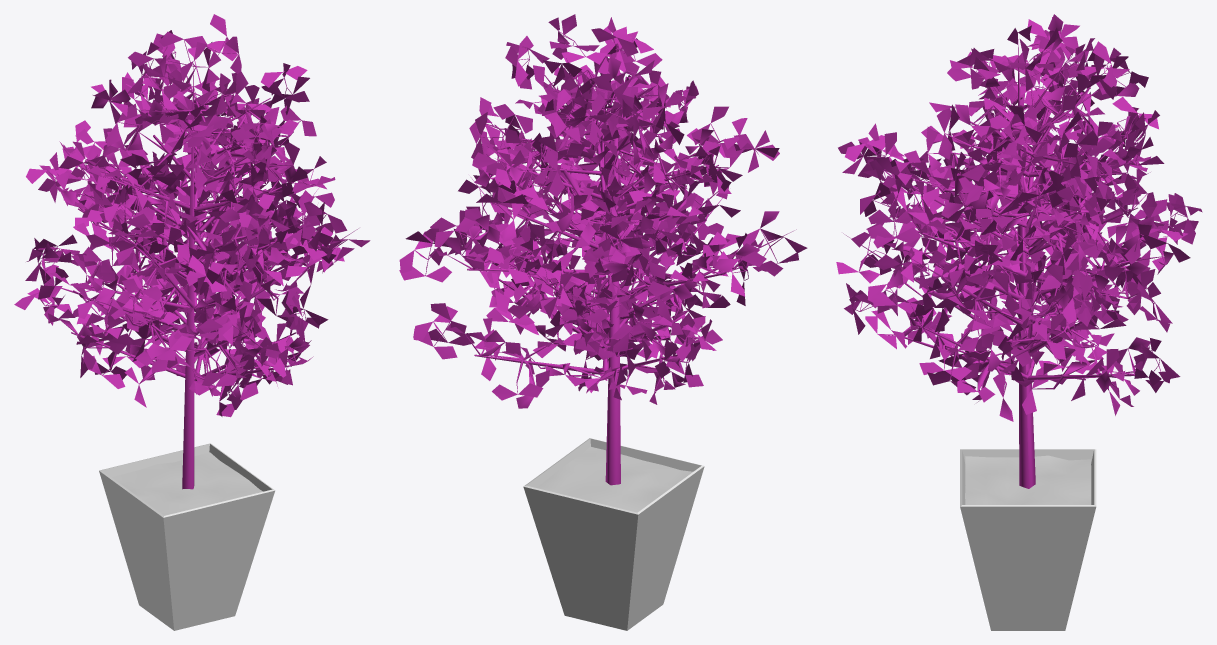
The model's file is Plant_1.fbx.
3 renders of one model, left to right at view 1: azimuth 30°, elevation 25°; view 2: azimuth 150°, elevation 25°; view 3: azimuth 270°, elevation 25°, orthographic. The views are drawn at different scales.
Parts seen in each view (by area): view 1: GrowFX02, Cube.3592, Plane; view 2: GrowFX02, Cube.3592, Plane; view 3: GrowFX02, Cube.3592, Plane.
Boxes of the visible parts, left/top/right/bottom form: GrowFX02: left=14, top=14, right=370, bottom=489; Cube.3592: left=99, top=443, right=275, bottom=630; Plane: left=112, top=452, right=262, bottom=515; GrowFX02: left=399, top=14, right=807, bottom=485; Cube.3592: left=523, top=438, right=704, bottom=630; Plane: left=536, top=446, right=692, bottom=512; GrowFX02: left=836, top=14, right=1202, bottom=488; Cube.3592: left=960, top=449, right=1096, bottom=630; Plane: left=965, top=455, right=1091, bottom=504.
Bounding box in the file's own units: 263 × 477 × 260.
